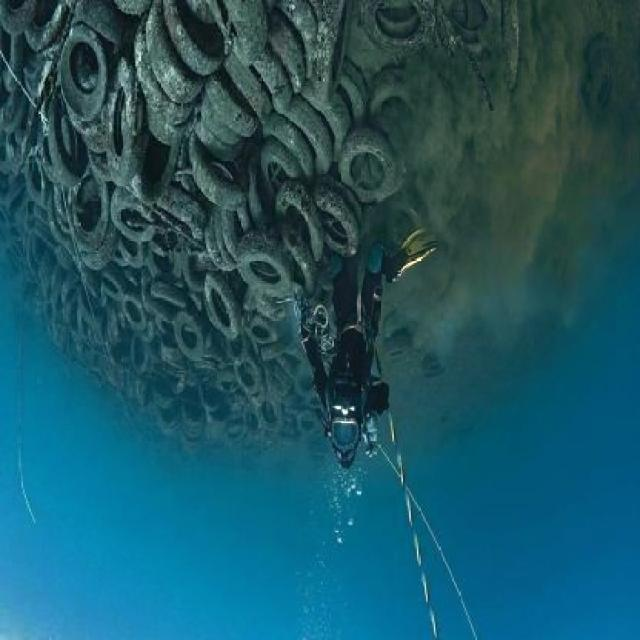tire: (154, 17, 248, 118), (332, 106, 406, 219), (226, 207, 303, 293), (66, 158, 120, 248), (42, 104, 95, 193), (166, 296, 222, 378), (51, 37, 104, 117), (114, 287, 161, 358), (115, 195, 178, 247), (181, 374, 219, 452)
